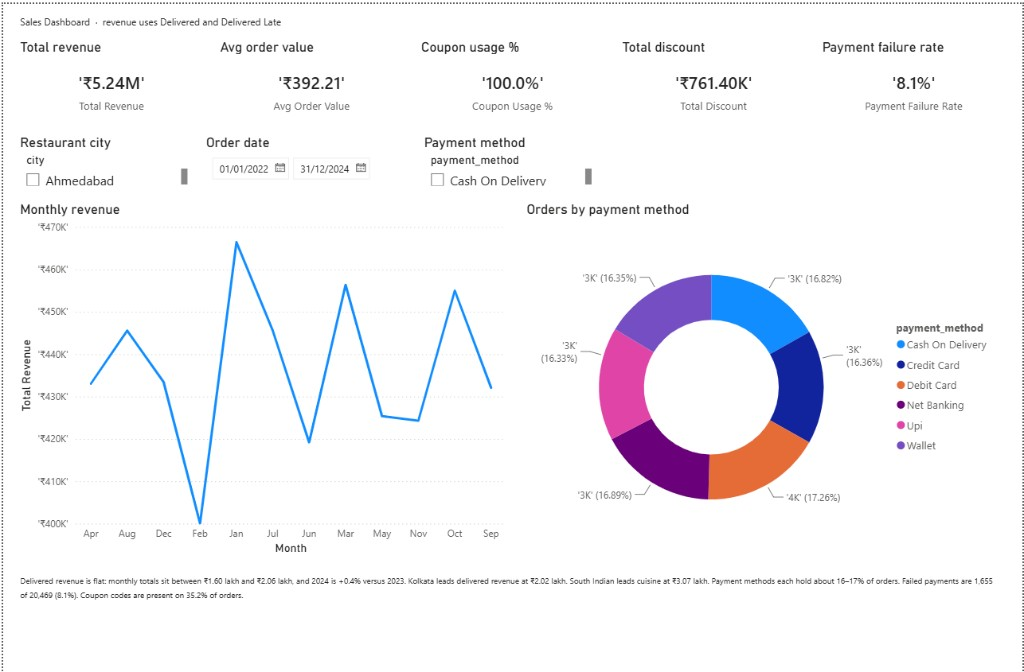

What the dashboard file says about the page in this screenshot:
{"tool":"powerbi","page":{"name":"Sales Dashboard","canvas":[1280,840],"ordinal":4},"visuals":[{"type":"textbox","box":[16,8,900,32],"z":0},{"type":"card","title":"Total revenue","fields":{"Values":["_Measures.Total Revenue"]},"box":[16,44,240,112],"z":1},{"type":"card","title":"Avg order value","fields":{"Values":["_Measures.Avg Order Value"]},"box":[268,44,240,112],"z":1},{"type":"card","title":"Coupon usage %","fields":{"Values":["_Measures.Coupon Usage %"]},"box":[520,44,240,112],"z":1},{"type":"card","title":"Total discount","fields":{"Values":["_Measures.Total Discount"]},"box":[772,44,240,112],"z":1},{"type":"card","title":"Payment failure rate","fields":{"Values":["_Measures.Payment Failure Rate"]},"box":[1024,44,240,112],"z":1},{"type":"slicer","title":"Restaurant city","fields":{"Values":["dim_city.city"]},"box":[16,164,220,70],"z":2},{"type":"slicer","title":"Order date","fields":{"Values":["dim_date.date"]},"box":[250,164,260,70],"z":2},{"type":"slicer","title":"Payment method","fields":{"Values":["fact_orders.payment_method"]},"box":[524,164,220,70],"z":2},{"type":"lineChart","title":"Monthly revenue","fields":{"Category":["dim_date.Month"],"Y":["_Measures.Total Revenue"]},"box":[16,248,620,450],"z":3},{"type":"donutChart","title":"Orders by payment method","fields":{"Category":["fact_orders.payment_method"],"Y":["_Measures.Total Orders"]},"box":[652,248,600,450],"z":3},{"type":"textbox","box":[16,710,1240,110],"z":4}]}

Visuals, with their boxes in screenshot pixels (x1, y1, x2, y2), scaled from the page's 1280x840 canvas onto the 1024x672 screenshot:
textbox: 13,6,733,32
"Total revenue" card: 13,35,205,125
"Avg order value" card: 214,35,406,125
"Coupon usage %" card: 416,35,608,125
"Total discount" card: 618,35,810,125
"Payment failure rate" card: 819,35,1011,125
"Restaurant city" slicer: 13,131,189,187
"Order date" slicer: 200,131,408,187
"Payment method" slicer: 419,131,595,187
"Monthly revenue" lineChart: 13,198,509,558
"Orders by payment method" donutChart: 522,198,1002,558
textbox: 13,568,1005,656
